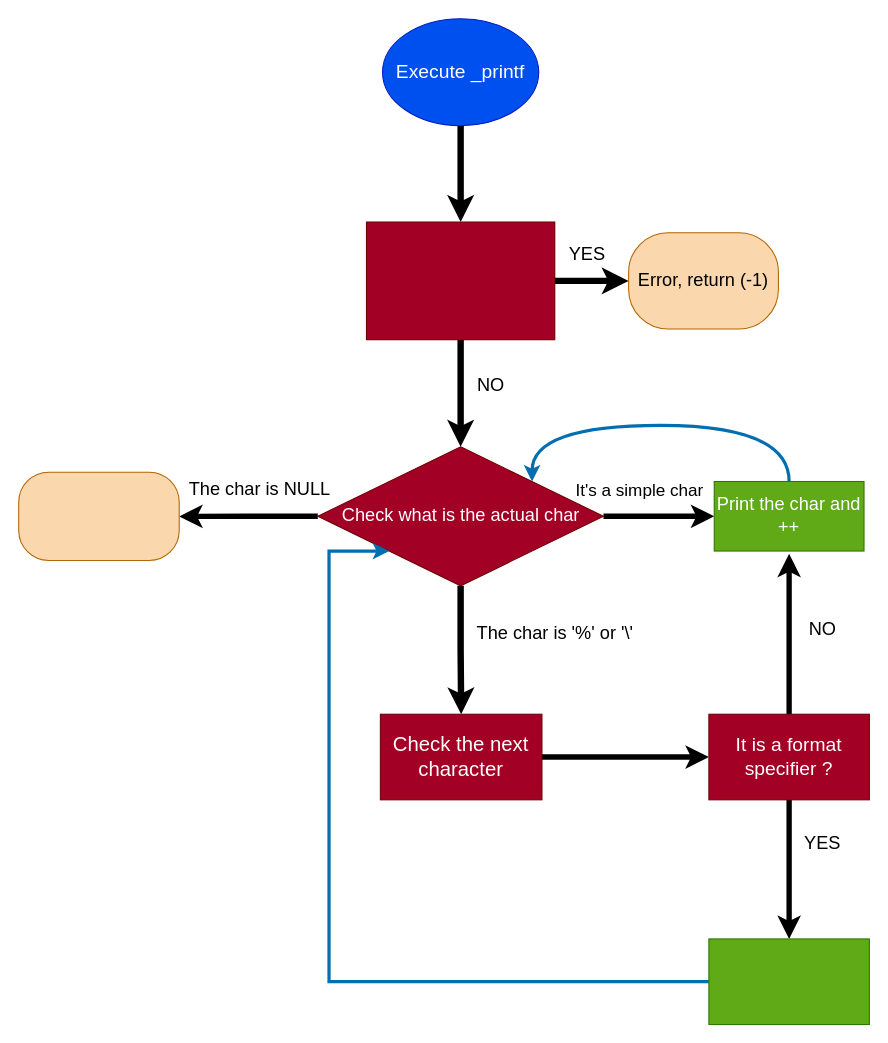
Some shapes in this 888 by 1043 pixel diagram are drawn without their labels. Each missing label, with the centre of its shape:
"Check if the entry string is empty" goes at pixel 460 280.
"Print the argument and ++" goes at pixel 788 981.
"Return the number of char" goes at pixel 98 515.
